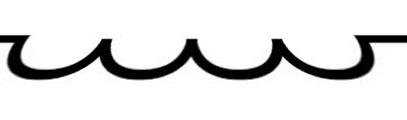inductor: (0, 16, 392, 112)
